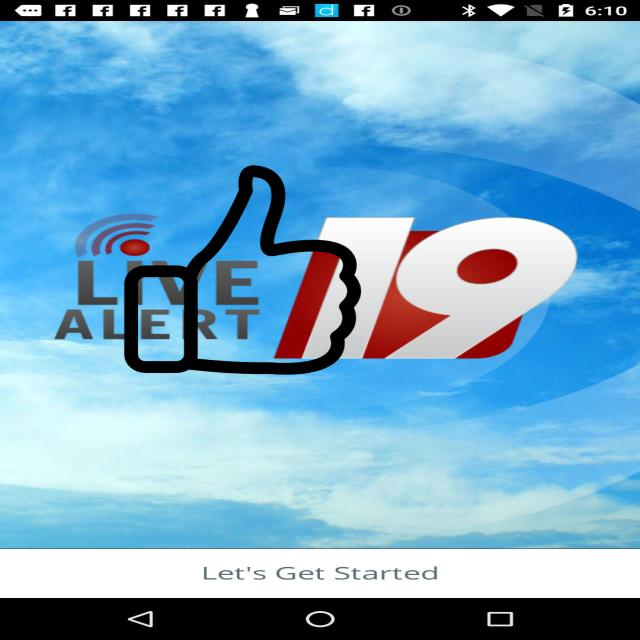privacy zuckering: (121, 165, 364, 375)
